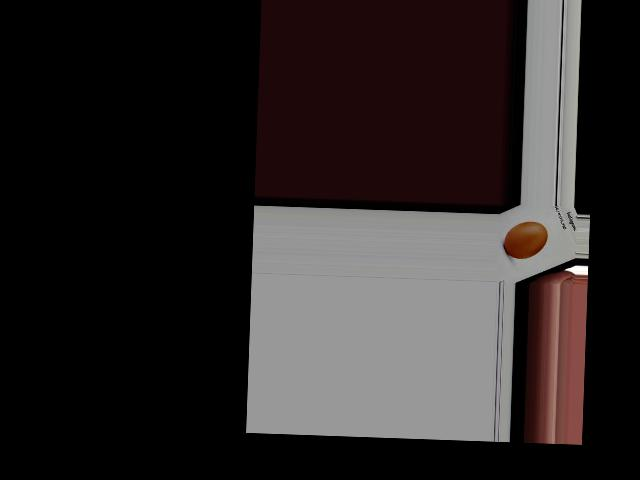egg: (503, 221, 547, 260)
